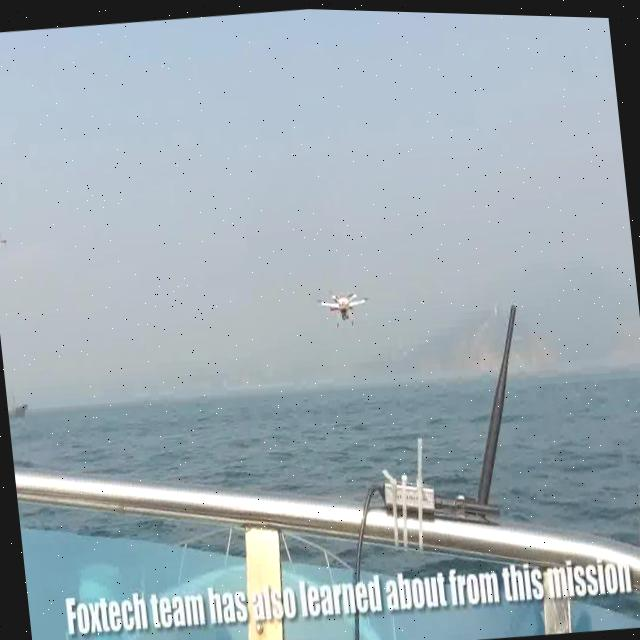drone: (313, 276, 370, 332)
